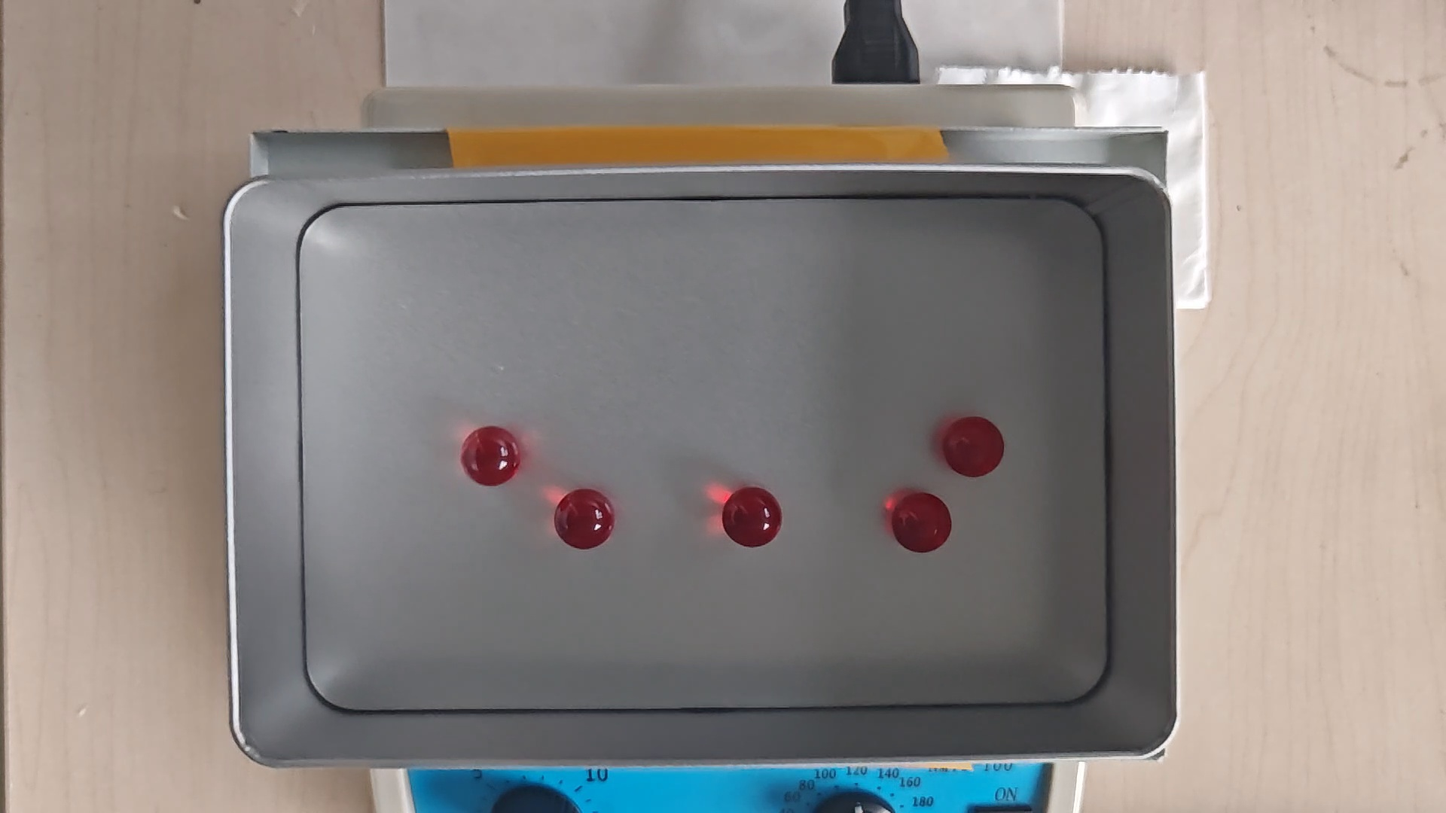ball: (895, 492, 953, 554), (462, 426, 521, 486), (722, 488, 781, 548), (556, 488, 613, 550), (945, 416, 1002, 478)
container: (295, 199, 1109, 708)
